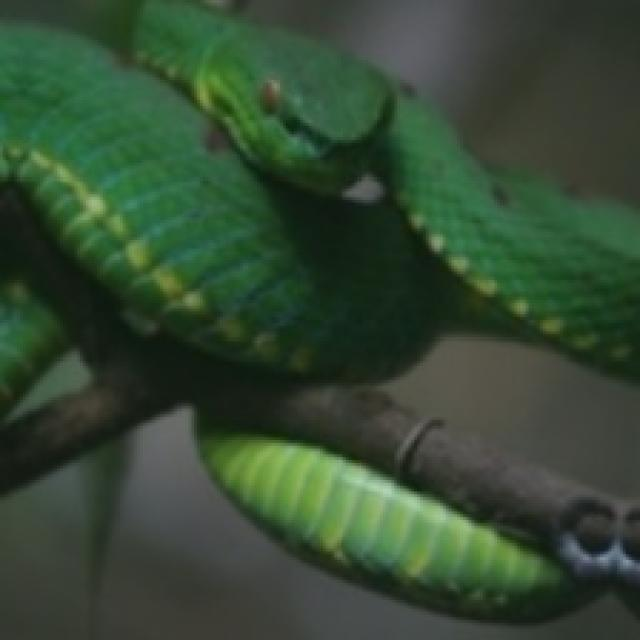philippine pitviper: (0, 4, 640, 381), (202, 432, 574, 618), (0, 463, 83, 637)
